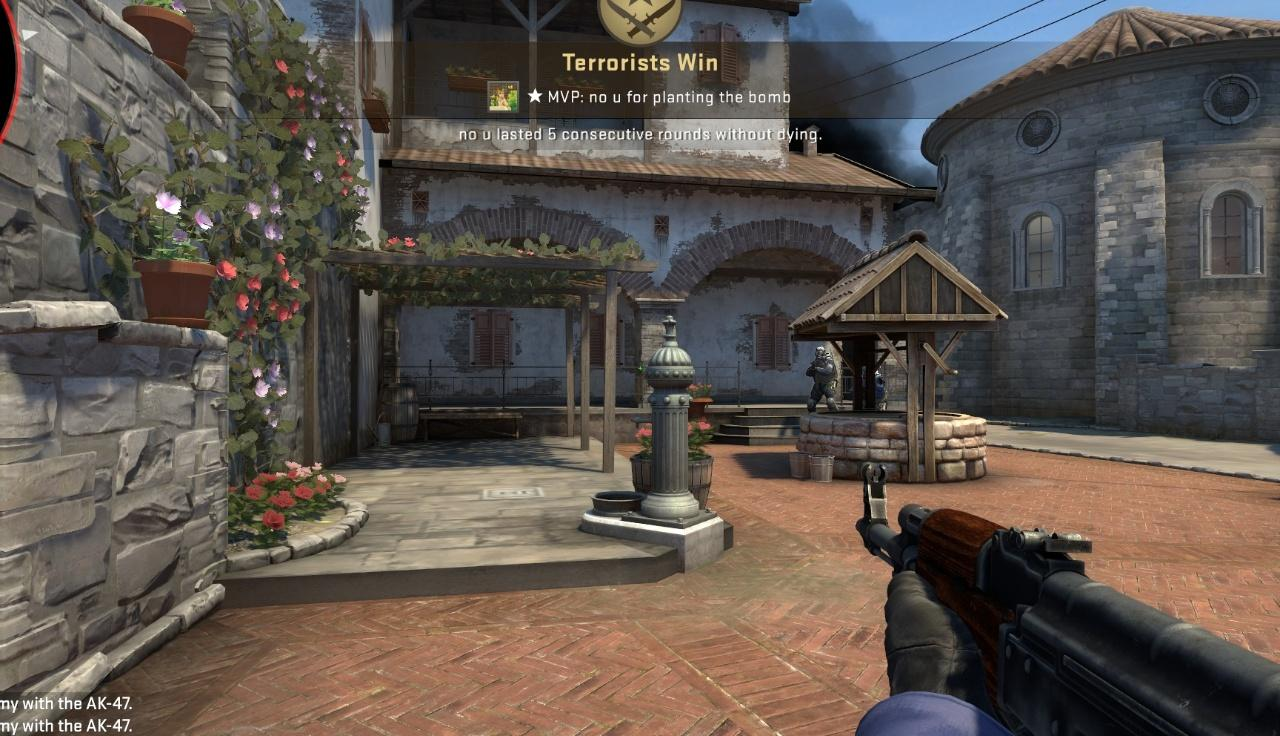ct: (808, 346, 838, 410)
cthead: (815, 346, 825, 360)
rifle: (859, 463, 1280, 736)
